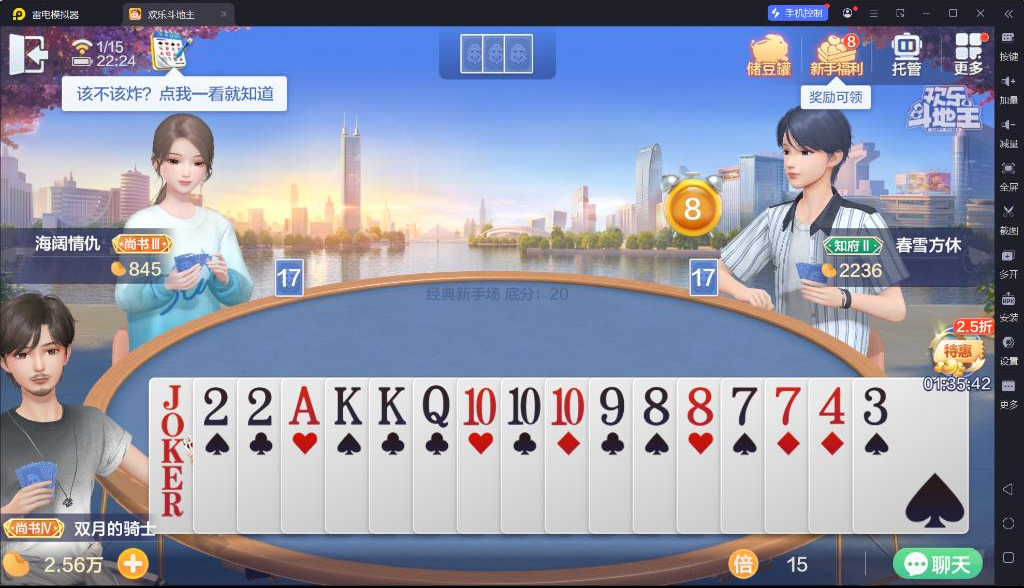A: (288, 384, 322, 427)
JOKER: (156, 380, 190, 466)
K: (331, 384, 366, 427), (375, 384, 409, 427)
Q: (419, 383, 453, 429)
eight: (639, 383, 673, 429), (682, 385, 718, 427)
four: (814, 384, 847, 426)
nine: (595, 385, 628, 427)
seven: (726, 384, 760, 427), (771, 383, 804, 427)
ten: (459, 385, 498, 429), (548, 383, 586, 427), (506, 384, 542, 428)
three: (858, 385, 892, 427)
two: (244, 382, 278, 428), (201, 383, 233, 429)
